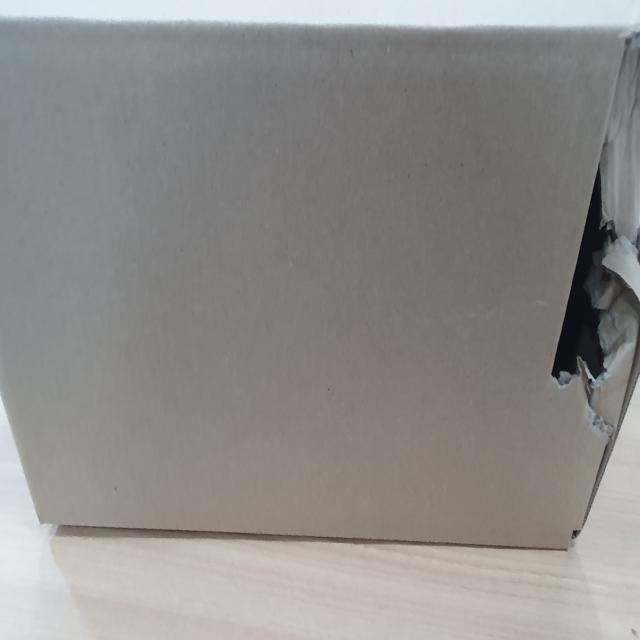hole: (551, 30, 640, 392)
